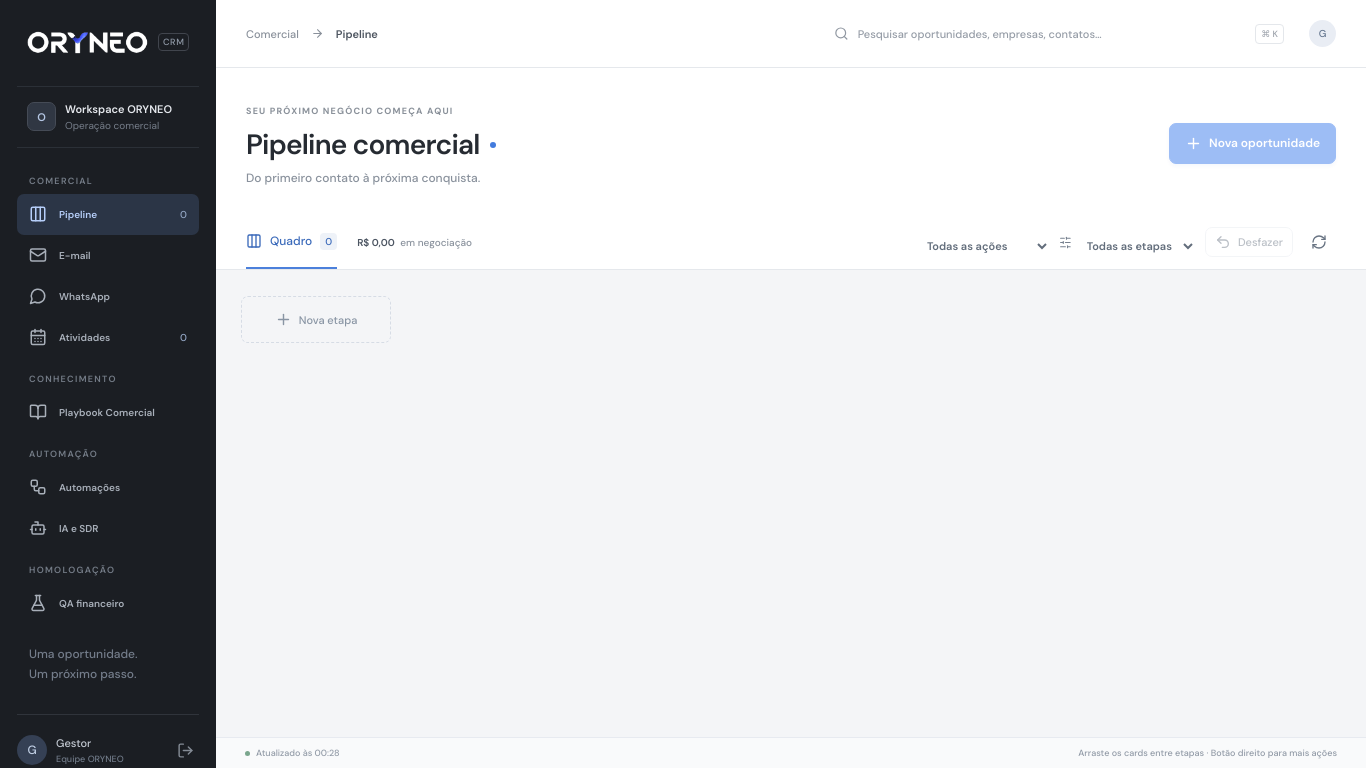
Test case: homologação financeira › mostra erro do SDK de checkout Pix e oferece recuperação
This screenshot has width=1366, height=768.
Click the button "QA financeiro".
click(108, 603)  # box top-left (17, 582), bottom-right (199, 624)
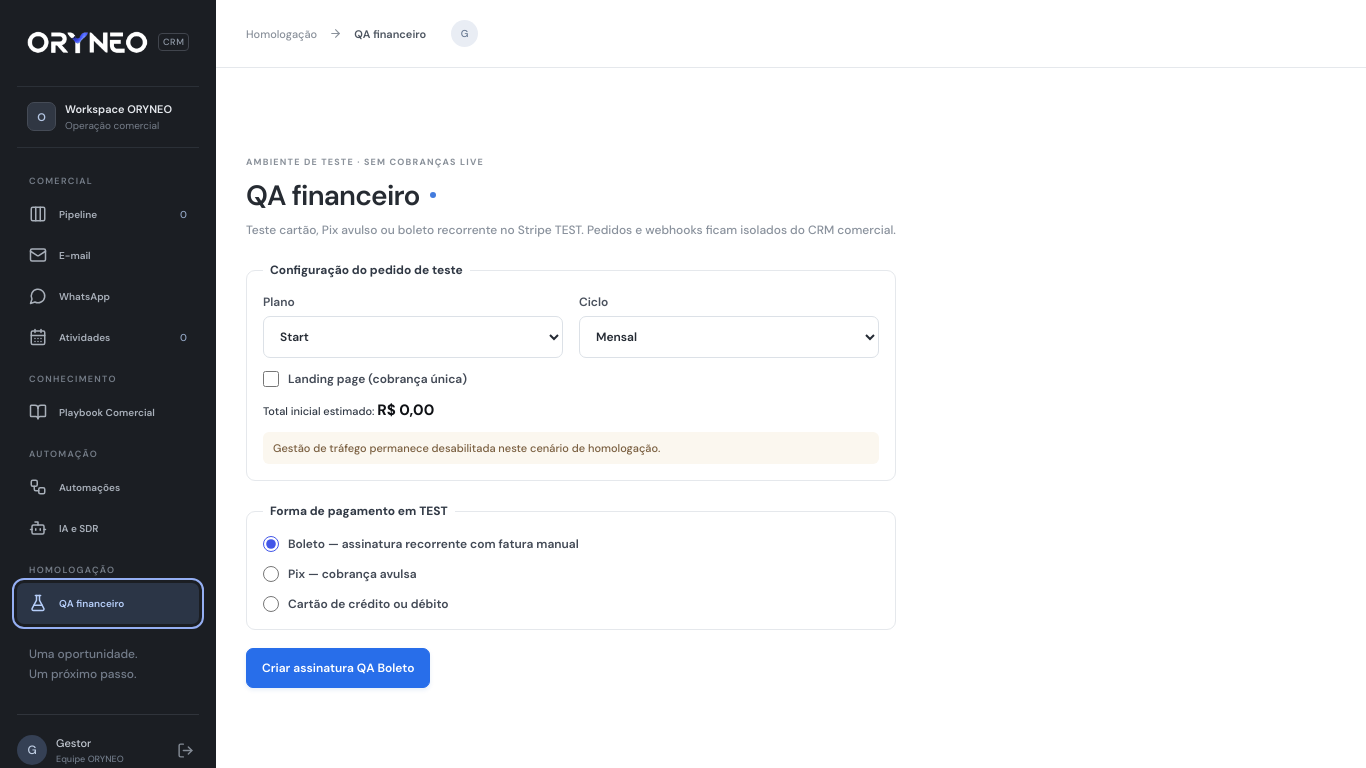
Click the radio button labelled "Pix — cobrança avulsa".
click(271, 574)  # box top-left (263, 566), bottom-right (279, 582)
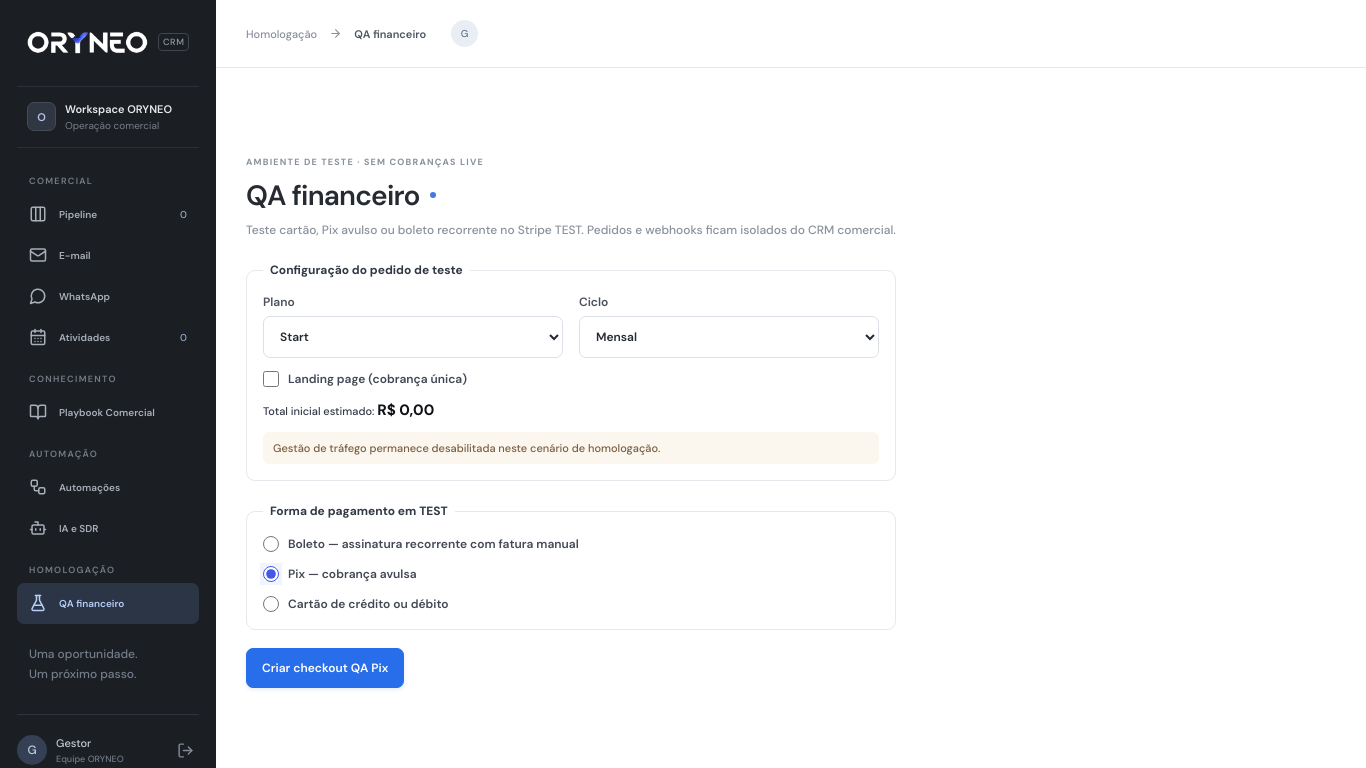
Click the button "Criar checkout QA Pix".
click(325, 668)  # box top-left (246, 648), bottom-right (404, 688)
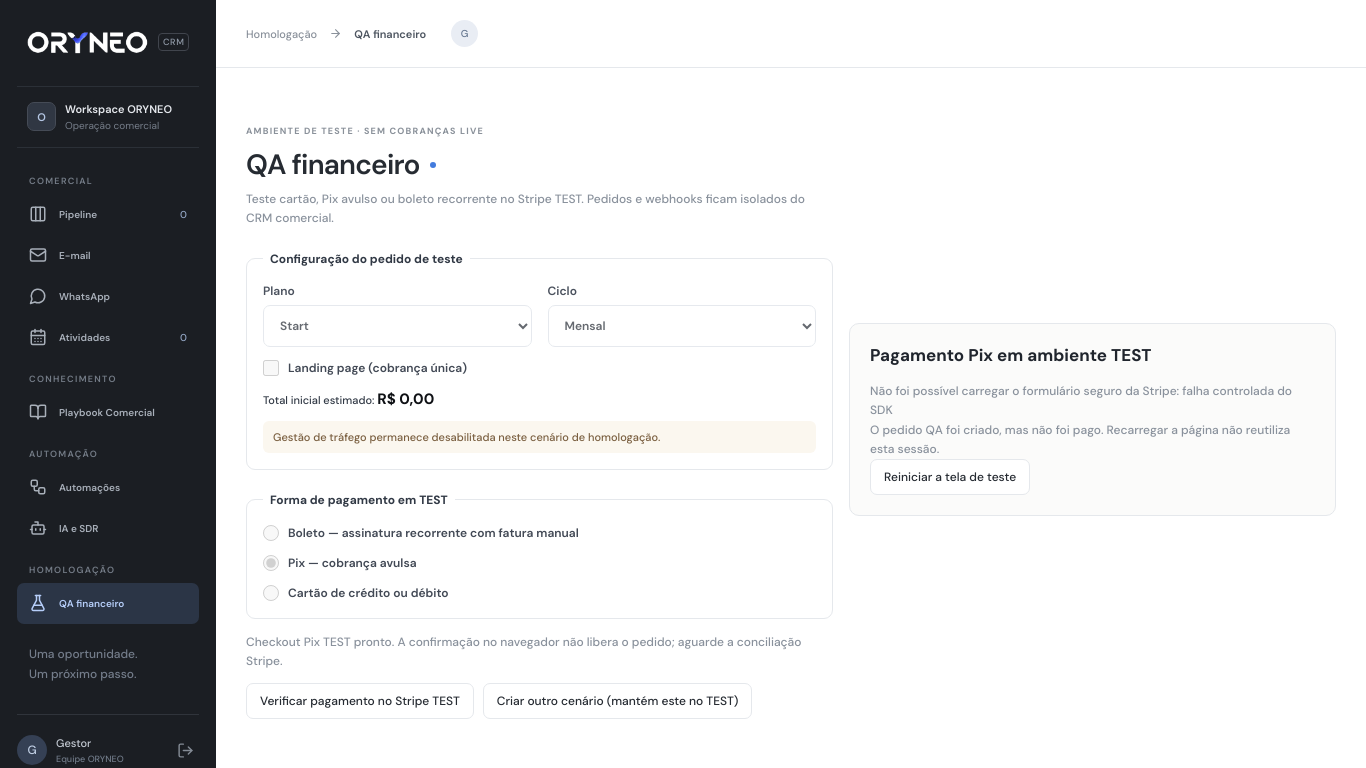
Expected: the 1st message shows "falha controlada do SDK", top-left (870, 383), bottom-right (1292, 418)
Expected: the button "Reiniciar a tela de teste" is shown, top-left (870, 459), bottom-right (1030, 495)
